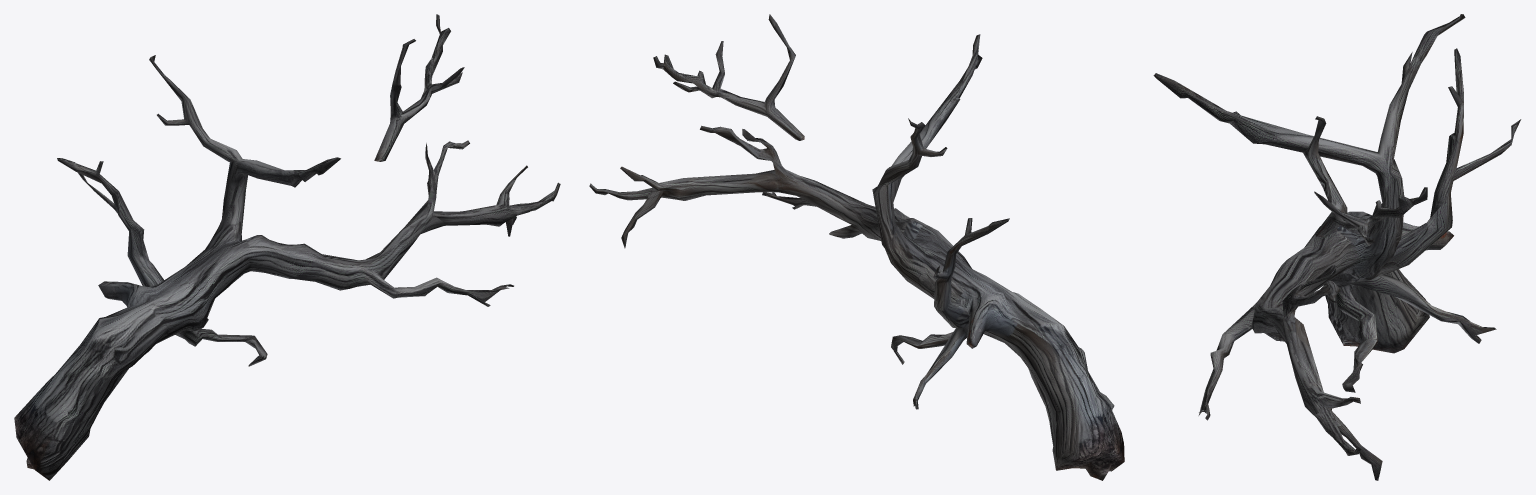
File: prop-deadtree-branch.glb
3 views of the same model, side by side, from view 1: azimuth 30°, elevation 25°; view 2: azimuth 150°, elevation 25°; view 3: azimuth 270°, elevation 25° (orthographic). The views are drawn at different scales.
Bounding box in the file's own units: 2 × 1.3 × 0.9963.
Materials: 1 (1 with a texture image).
